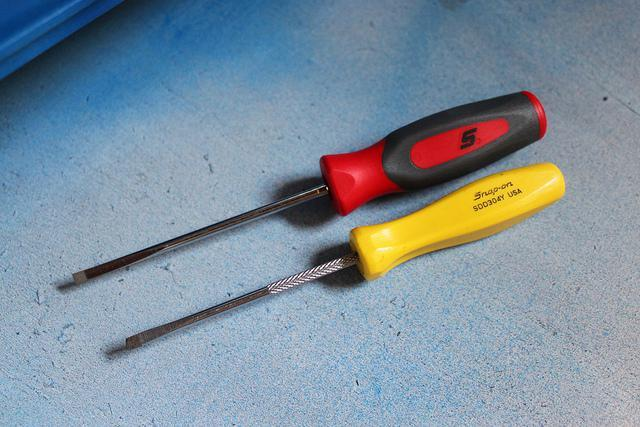Screwdriver: (60, 89, 569, 351)
